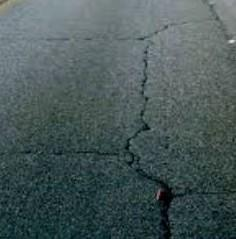crack: (127, 31, 158, 171), (131, 161, 184, 239), (147, 12, 212, 42), (14, 143, 120, 161), (38, 37, 132, 50)
